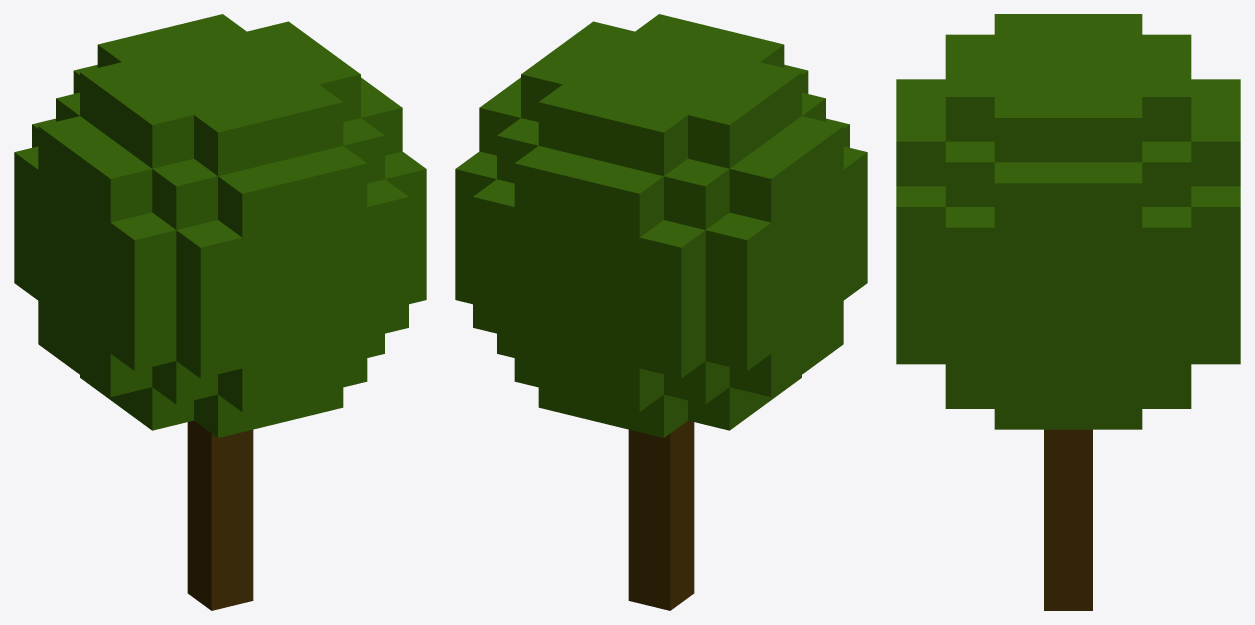
File: tree01.fbx
The picture shows the model from 3 angles, left to right: view 1: azimuth 30°, elevation 25°; view 2: azimuth 150°, elevation 25°; view 3: azimuth 270°, elevation 25°; orthographic projection. The views are drawn at different scales.
Parts seen in each view (by area): view 1: Objekt; view 2: Objekt; view 3: Objekt.
Boxes of the visible parts, x1,y1,x2,y2 form: Objekt: [14, 14, 426, 610]; Objekt: [455, 14, 867, 610]; Objekt: [896, 14, 1240, 610].
Bounding box in the file's own units: 7 × 12 × 7.
Materials: 1 (1 with a texture image).
